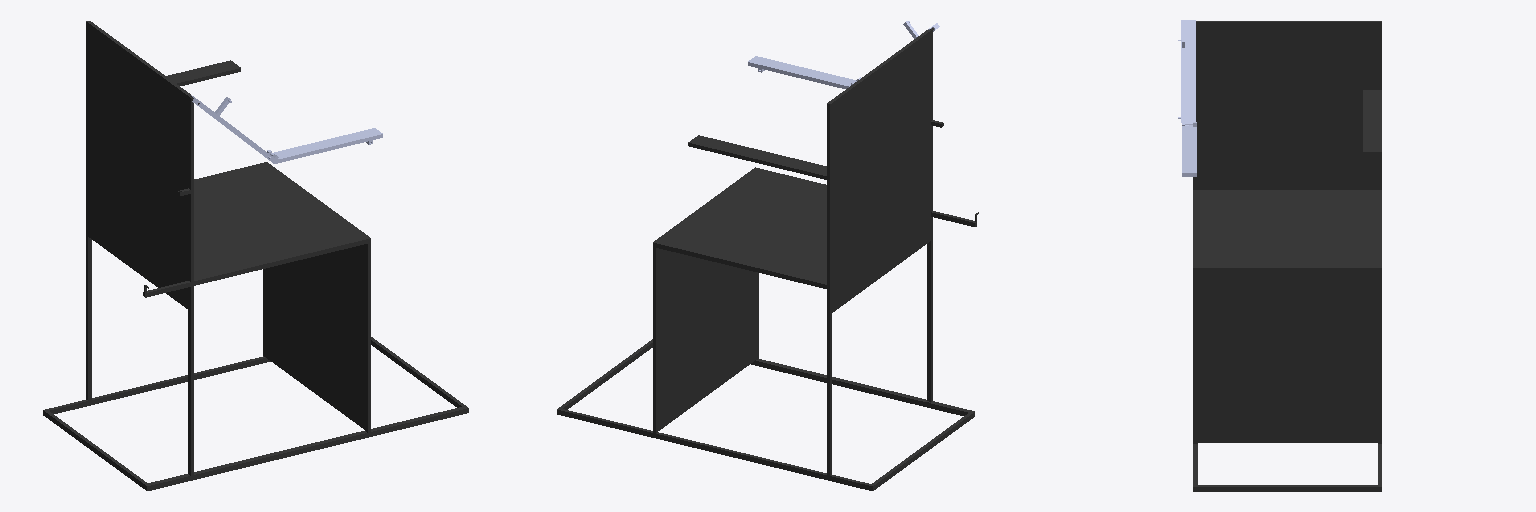
The robot description file, URDF, robot "physio":
<?xml version="1.0" encoding="utf-8"?>
<!-- This URDF was automatically created by SolidWorks to URDF Exporter! Originally created by [author] ([email redacted]) 
     Commit Version: 1.6.0-1-g15f4949  Build Version: 1.6.7594.29634
     For more information, please see http://wiki.ros.org/sw_urdf_exporter -->
<robot
  name="physio">
  <link
    name="base_link">
    <inertial>
      <origin
        xyz="0.24199 -0.24703 0.48152"
        rpy="0 0 0" />
      <mass
        value="8.9953" />
      <inertia
        ixx="0.75382"
        ixy="0.0012961"
        ixz="0.31647"
        iyy="0.97956"
        iyz="-0.019777"
        izz="0.64235" />
    </inertial>
    <visual>
      <origin
        xyz="0 0 0"
        rpy="0 0 0" />
      <geometry>
        <mesh
          filename="package://physio/meshes/base_link.STL" />
      </geometry>
      <material
        name="">
        <color
          rgba="0.25098 0.25098 0.25098 1" />
      </material>
    </visual>
    <collision>
      <origin
        xyz="0 0 0"
        rpy="0 0 0" />
      <geometry>
        <mesh
          filename="package://physio/meshes/base_link.STL" />
      </geometry>
    </collision>
  </link>
  <link
    name="arm1">
    <inertial>
      <origin
        xyz="0.14147 0.0034965 0.025666"
        rpy="0 0 0" />
      <mass
        value="0.09284" />
      <inertia
        ixx="1.4217E-05"
        ixy="1.069E-05"
        ixz="6.0916E-07"
        iyy="0.00068892"
        iyz="-2.7338E-07"
        izz="0.00068752" />
    </inertial>
    <visual>
      <origin
        xyz="0 0 0"
        rpy="0 0 0" />
      <geometry>
        <mesh
          filename="package://physio/meshes/arm1.STL" />
      </geometry>
      <material
        name="">
        <color
          rgba="0.79216 0.81961 0.93333 1" />
      </material>
    </visual>
    <collision>
      <origin
        xyz="0 0 0"
        rpy="0 0 0" />
      <geometry>
        <mesh
          filename="package://physio/meshes/arm1.STL" />
      </geometry>
    </collision>
  </link>
  <joint
    name="joint1"
    type="revolute">
    <origin
      xyz="0.005 -0.492 0.995"
      rpy="1.5708 0.76627 0" />
    <parent
      link="base_link" />
    <child
      link="arm1" />
    <axis
      xyz="0 0 1" />
    <limit
      lower="-0.785"
      upper="0.785"
      effort="0"
      velocity="0" />
  </joint>
  <link
    name="arm2">
    <inertial>
      <origin
        xyz="0.14613 -0.01013 0.017903"
        rpy="0 0 0" />
      <mass
        value="0.1248" />
      <inertia
        ixx="1.8239E-05"
        ixy="5.9972E-06"
        ixz="-1.7615E-06"
        iyy="0.00099286"
        iyz="1.2212E-07"
        izz="0.00097766" />
    </inertial>
    <visual>
      <origin
        xyz="0 0 0"
        rpy="0 0 0" />
      <geometry>
        <mesh
          filename="package://physio/meshes/arm2.STL" />
      </geometry>
      <material
        name="">
        <color
          rgba="0.79216 0.81961 0.93333 1" />
      </material>
    </visual>
    <collision>
      <origin
        xyz="0 0 0"
        rpy="0 0 0" />
      <geometry>
        <mesh
          filename="package://physio/meshes/arm2.STL" />
      </geometry>
    </collision>
  </link>
  <joint
    name="joint2"
    type="revolute">
    <origin
      xyz="0.29 0.01 0"
      rpy="0 0 0.76627" />
    <parent
      link="arm1" />
    <child
      link="arm2" />
    <axis
      xyz="0 0 1" />
    <limit
      lower="-0.785"
      upper="0.785"
      effort="0"
      velocity="0" />
  </joint>
</robot>

--- What the picture shows (computed from the rendered views, not written in the file) ---
3 views of the same robot in one strip: view 1: azimuth 30°, elevation 25°; view 2: azimuth 150°, elevation 25°; view 3: azimuth 270°, elevation 25° (orthographic).
Model physio with 3 links and 2 joints (2 revolute), rooted at base_link, posed all joints at 0.
Visible links, largest first — view 1: base_link, arm2, arm1; view 2: base_link, arm2; view 3: base_link, arm1, arm2.
Boxes of the visible links, box(x1,y1,x2,y2) form: base_link: box(43, 21, 468, 490); arm2: box(267, 128, 382, 163); arm1: box(191, 95, 278, 163); base_link: box(557, 28, 978, 490); arm2: box(748, 56, 856, 88); base_link: box(1193, 21, 1381, 491); arm1: box(1178, 20, 1195, 125); arm2: box(1182, 122, 1196, 176).
Bounding box of the posed robot: 0.8954 × 0.54 × 1.02 m (x, y, z).
Meshes: 3 distinct files referenced, 3 mesh visuals loaded (3 binary STL).